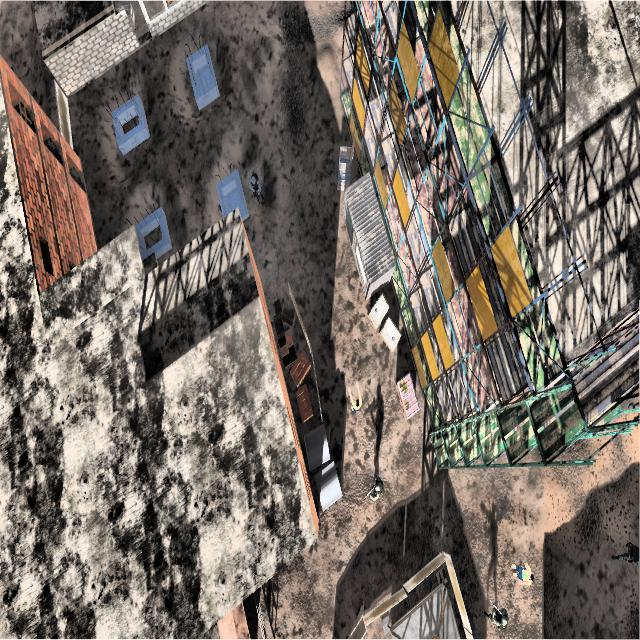bad: (366, 464, 390, 507), (488, 596, 510, 640), (244, 166, 265, 205)
good: (501, 542, 541, 597), (343, 375, 368, 426)
